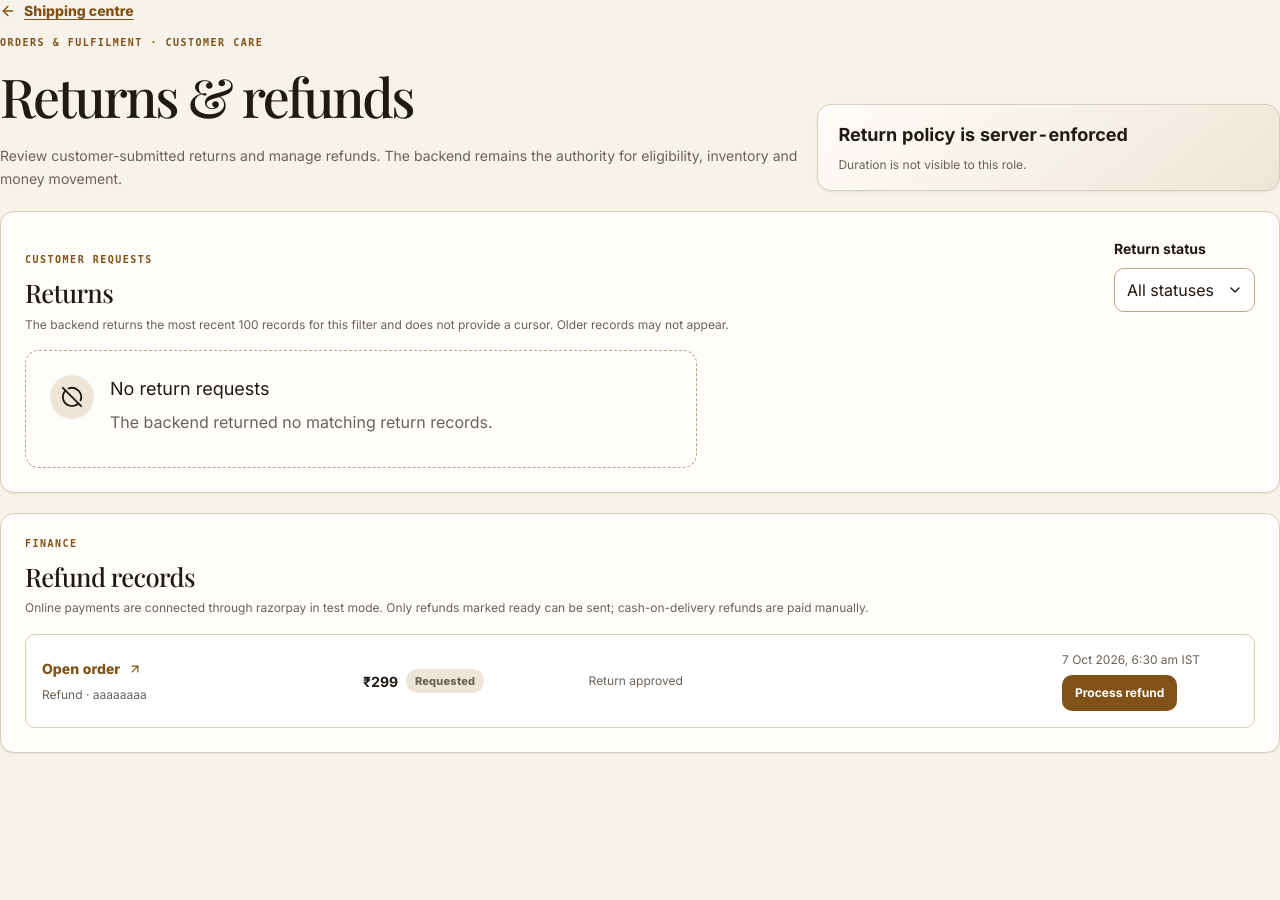
Test case: refund processing › explains a missing gateway when the backend refuses
This screenshot has width=1280, height=900.
Click the button "Process refund" at point(1120, 693), box x1=1062 y1=675 x2=1177 y2=711
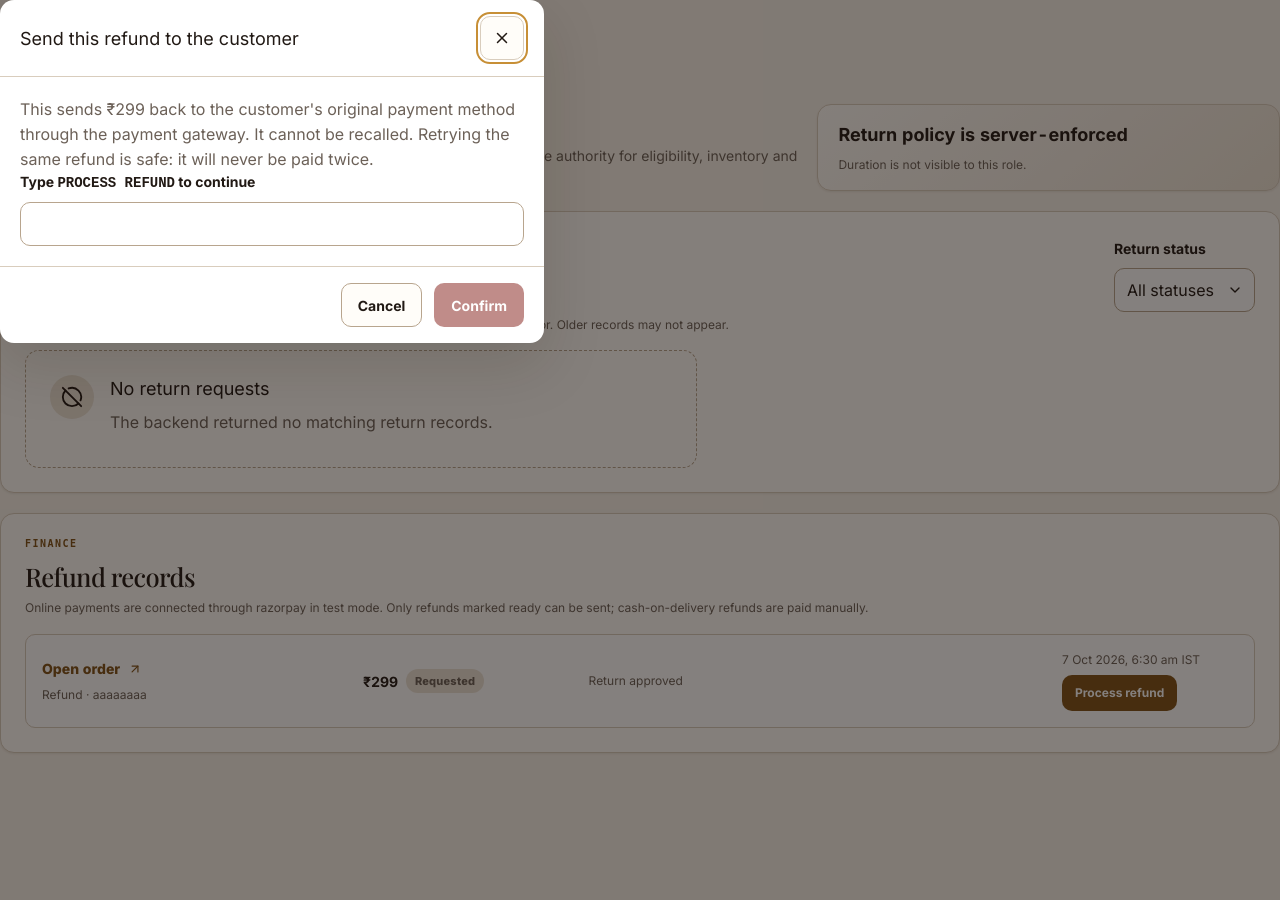
Type "PROCESS REFUND" into the field labelled "Type PROCESS REFUND to continue" at point(272, 224), box x1=20 y1=202 x2=524 y2=246
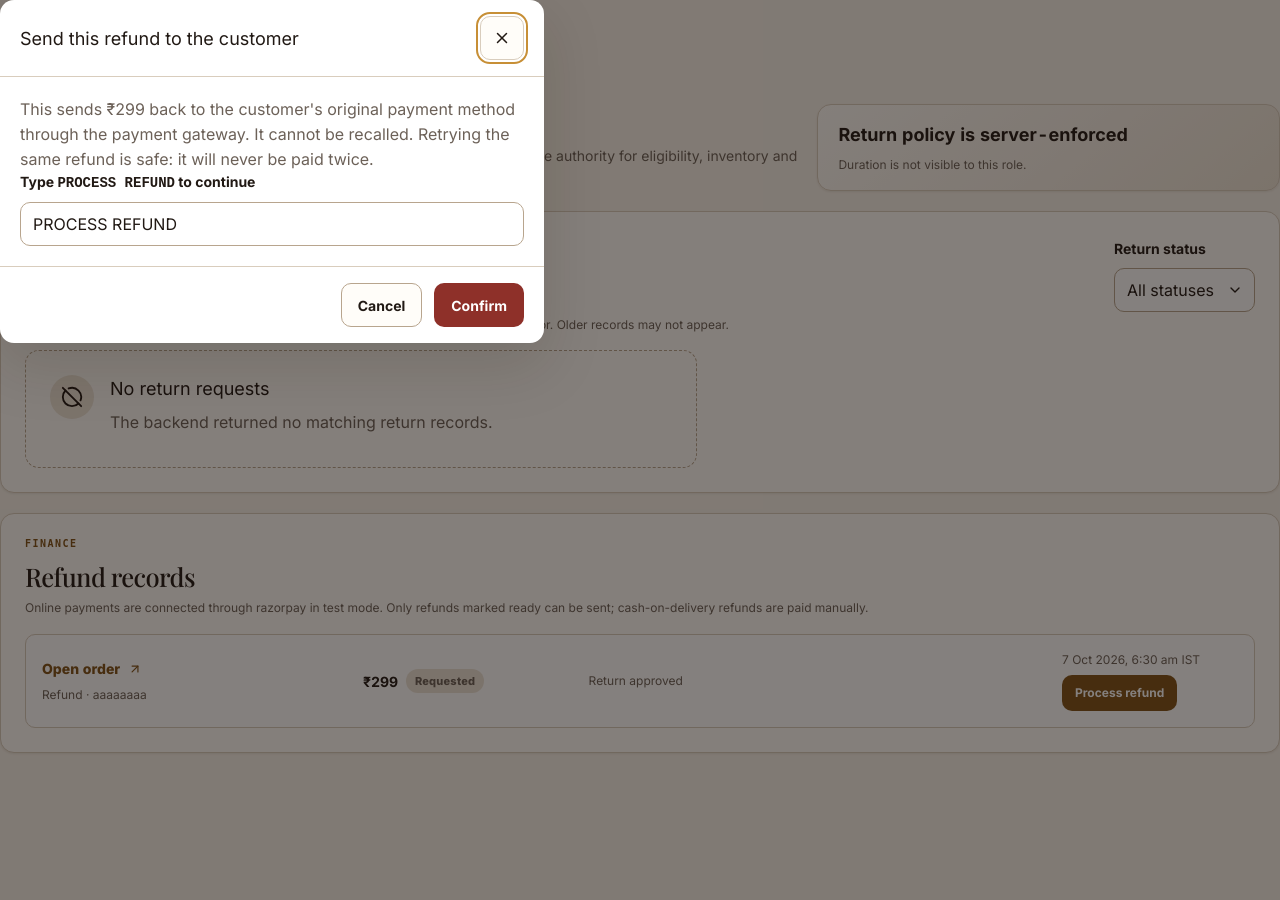
Click the button "Confirm" at point(479, 305), box x1=434 y1=283 x2=524 y2=327
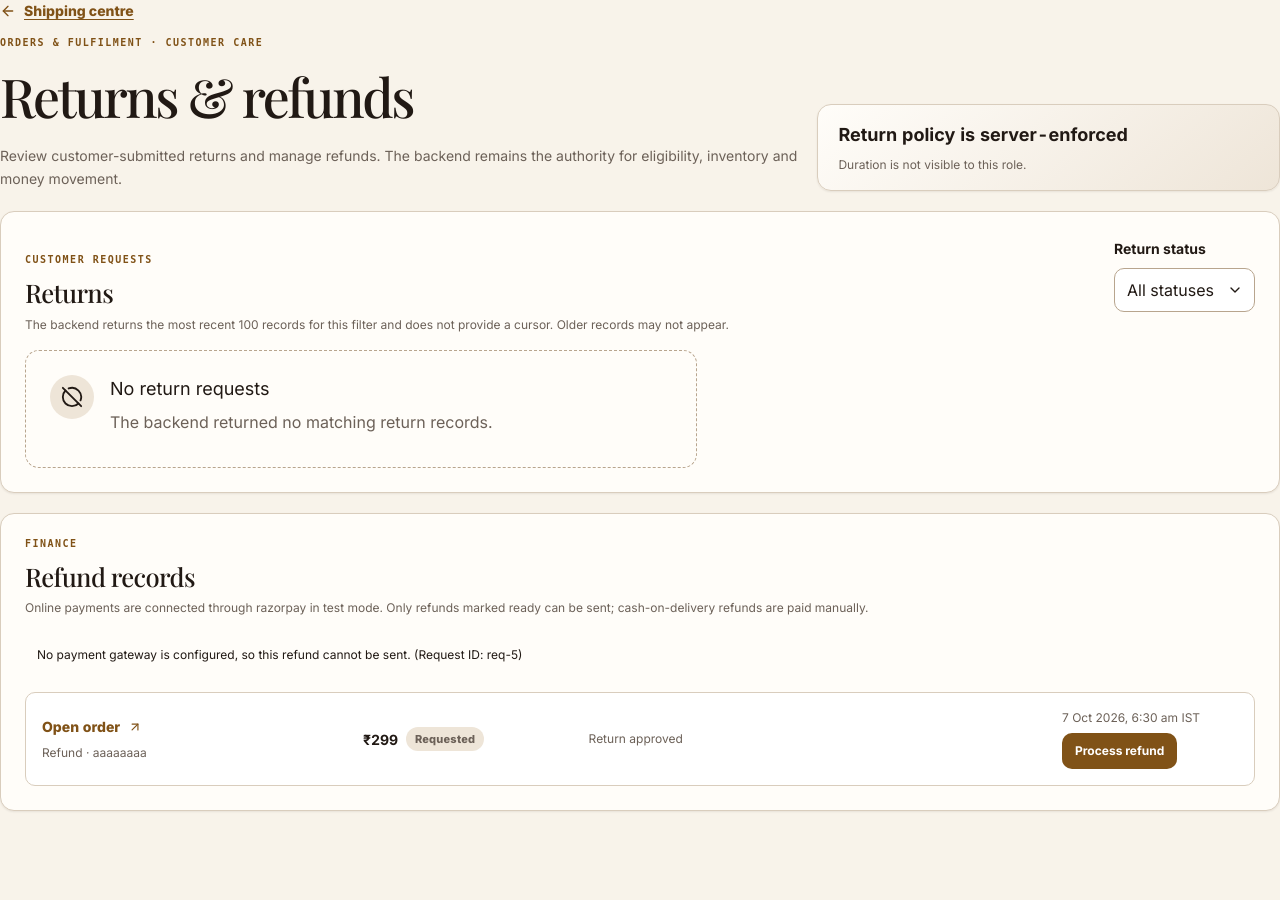
Expected: the message shows "No payment gateway is configured", x1=37 y1=647 x2=522 y2=662
Expected: the message shows "req-5", x1=37 y1=647 x2=522 y2=662
